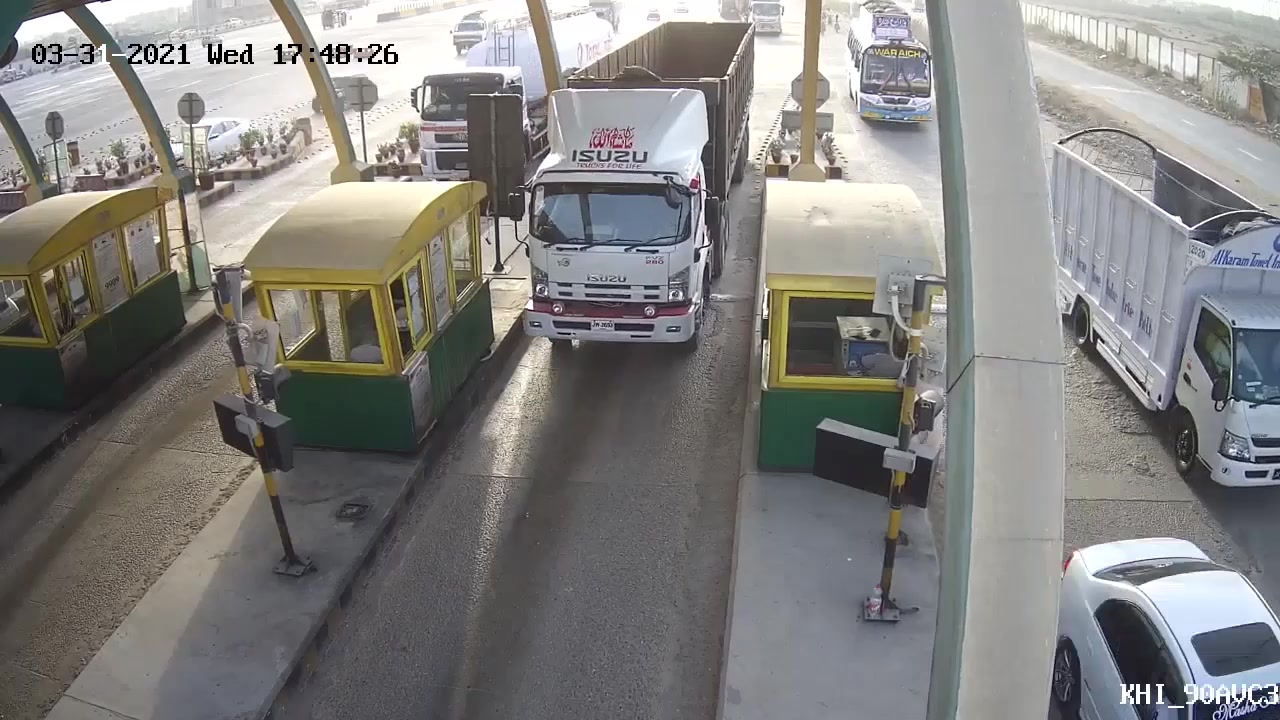F5: (507, 17, 756, 359)
